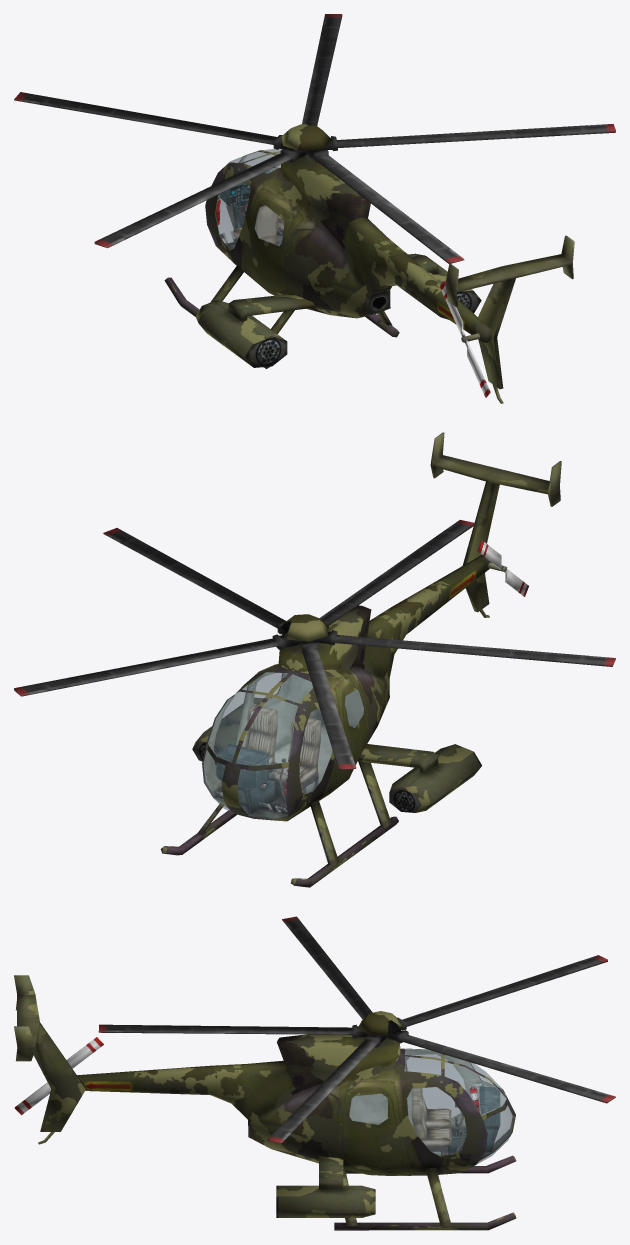
The picture shows the model from 3 angles, top to bottom: view 1: azimuth 30°, elevation 25°; view 2: azimuth 150°, elevation 25°; view 3: azimuth 270°, elevation 25°; orthographic projection. The views are drawn at different scales.
Visible parts, largest first — view 1: md500_0, md500_rotor, md500_4, md500_3, md500_tail; view 2: md500_0, md500_rotor, md500_4, md500_3, md500_tail; view 3: md500_0, md500_rotor, md500_4, md500_3, md500_tail.
Boxes of the visible parts, left/top/right/bottom form: md500_0: left=164, top=150, right=574, bottom=403; md500_rotor: left=14, top=14, right=615, bottom=263; md500_4: left=215, top=148, right=283, bottom=249; md500_3: left=215, top=151, right=284, bottom=249; md500_tail: left=439, top=281, right=490, bottom=397; md500_0: left=160, top=432, right=561, bottom=887; md500_rotor: left=14, top=520, right=615, bottom=770; md500_4: left=202, top=672, right=363, bottom=819; md500_3: left=203, top=672, right=363, bottom=818; md500_tail: left=477, top=540, right=528, bottom=596; md500_0: left=14, top=975, right=516, bottom=1230; md500_rotor: left=98, top=916, right=615, bottom=1143; md500_4: left=349, top=1049, right=513, bottom=1164; md500_3: left=349, top=1048, right=514, bottom=1156; md500_tail: left=14, top=1037, right=103, bottom=1115.
Size of the model in its own units: 7.36 by 3.1 by 8.31.
Materials: 3 (2 with a texture image).
